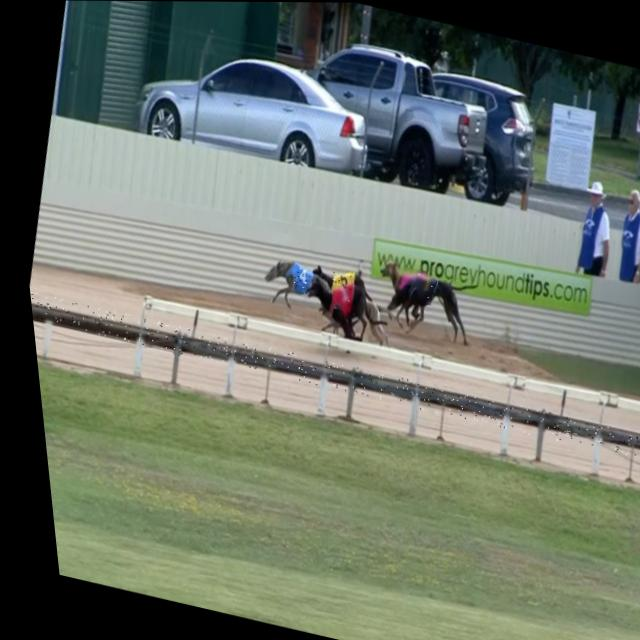dog_eight: (393, 265, 423, 287)
dog_five: (323, 268, 351, 292)
dog_four: (284, 265, 308, 294)
dog_one: (326, 283, 348, 311)
dog_seven: (406, 274, 430, 305)
rail: (25, 303, 640, 450)
